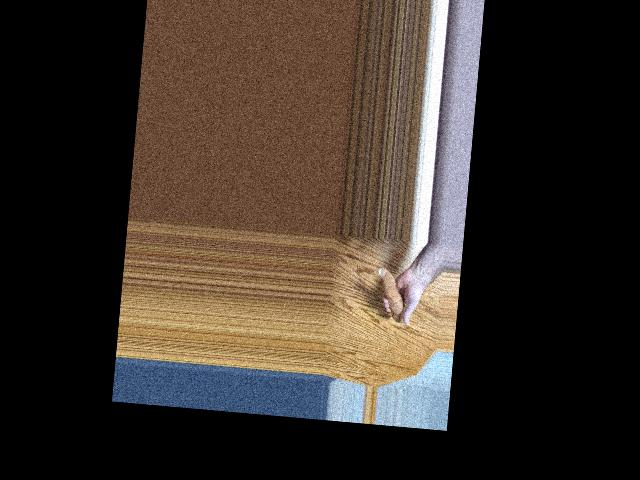sweet_potato: (374, 264, 408, 320)
